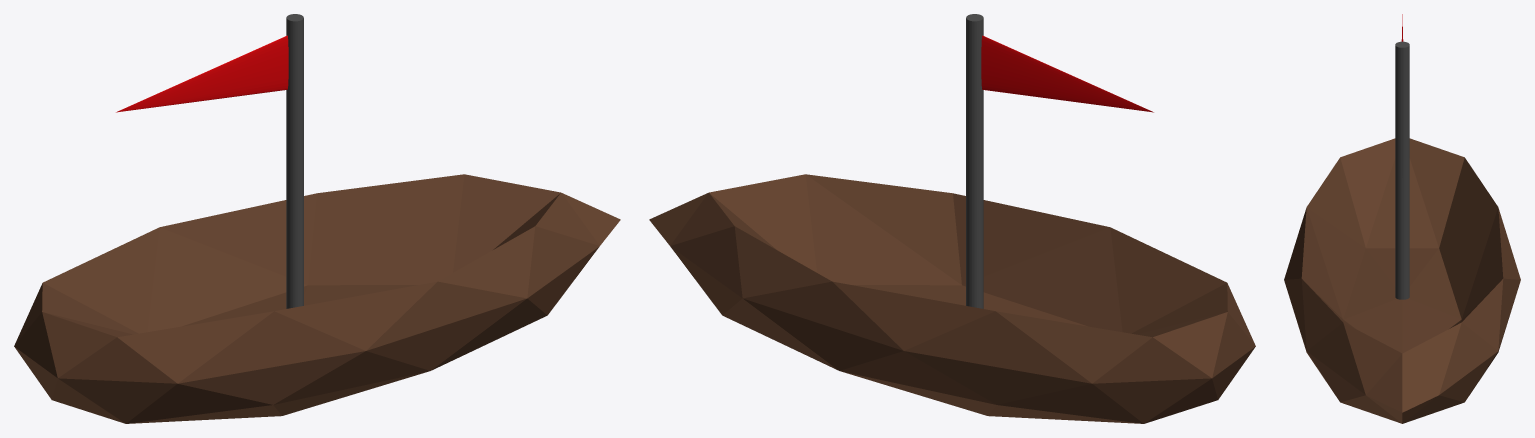
The model's file is ScoutShip.fbx.
3 renders of one model, left to right at view 1: azimuth 30°, elevation 25°; view 2: azimuth 150°, elevation 25°; view 3: azimuth 270°, elevation 25°, orthographic. The views are drawn at different scales.
Parts seen in each view (by area): view 1: Icosphere, Cylinder, Cone; view 2: Icosphere, Cylinder, Cone; view 3: Icosphere, Cylinder.
Part boxes in pixels (x1,y1,x2,y2): Icosphere: (14, 174, 620, 423); Cylinder: (286, 14, 303, 308); Cone: (116, 35, 288, 112); Icosphere: (649, 174, 1255, 423); Cylinder: (966, 14, 983, 308); Cone: (981, 35, 1153, 112); Icosphere: (1284, 138, 1520, 423); Cylinder: (1395, 41, 1409, 299).
Size of the model in its own units: 476 by 291 by 200.
